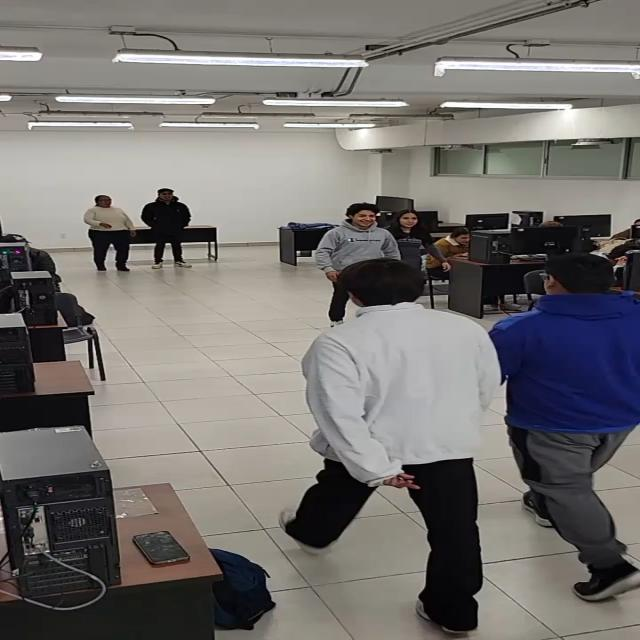Persona: (277, 258, 499, 634), (490, 250, 640, 604), (319, 204, 406, 327), (383, 207, 458, 301), (140, 188, 193, 269), (84, 194, 137, 272)
